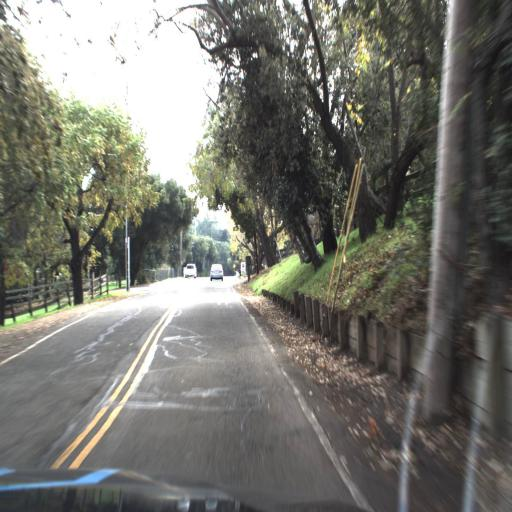car: (180, 255, 201, 286), (207, 257, 228, 285)
